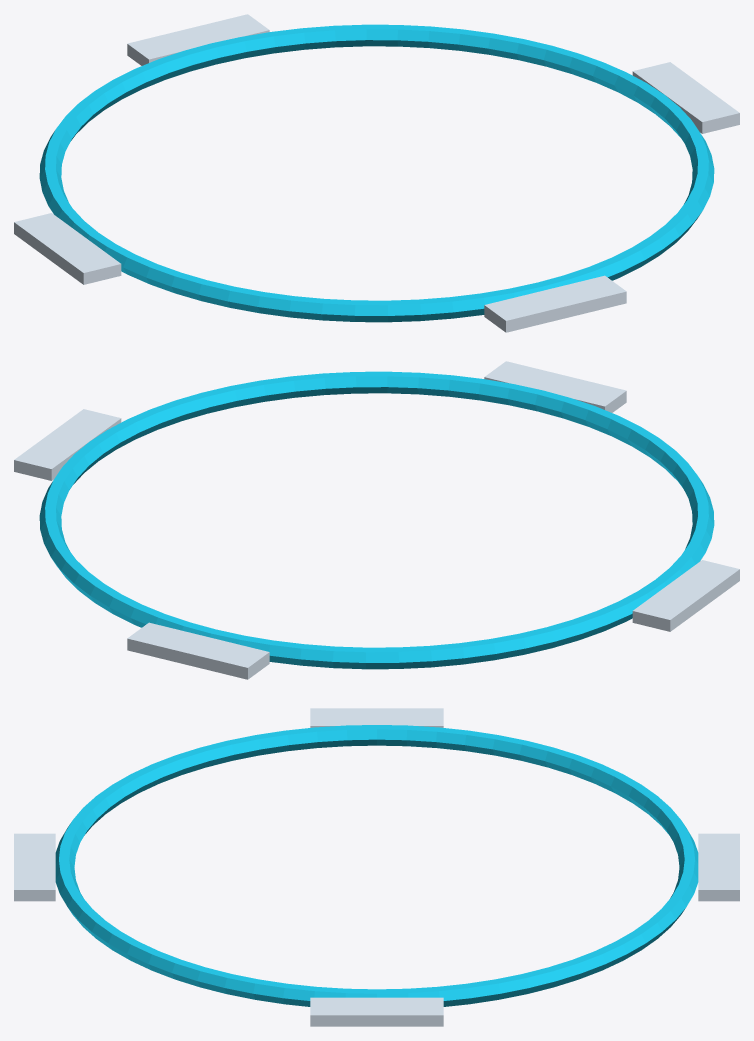
The model's file is vmt_focus_reticle.obj.
3 renders of one model, top to bottom at view 1: azimuth 30°, elevation 25°; view 2: azimuth 150°, elevation 25°; view 3: azimuth 270°, elevation 25°, orthographic. The views are drawn at different scales.
Parts seen in each view (by area): view 1: VMT_FocusReticle; view 2: VMT_FocusReticle; view 3: VMT_FocusReticle.
Boxes of the visible parts, x1,y1,x2,y2 form: VMT_FocusReticle: (14, 14, 739, 332); VMT_FocusReticle: (14, 361, 739, 679); VMT_FocusReticle: (14, 708, 739, 1026).
Size of the model in its own units: 1.74 by 0.0433 by 1.74.
